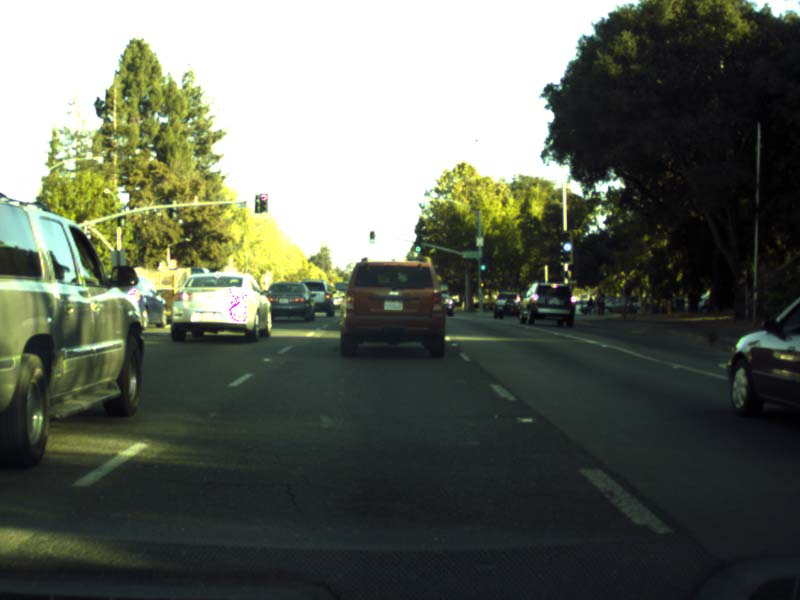Green: (562, 232, 571, 251), (479, 262, 487, 272), (369, 230, 375, 243), (415, 238, 421, 251)
Red: (260, 193, 267, 212)
